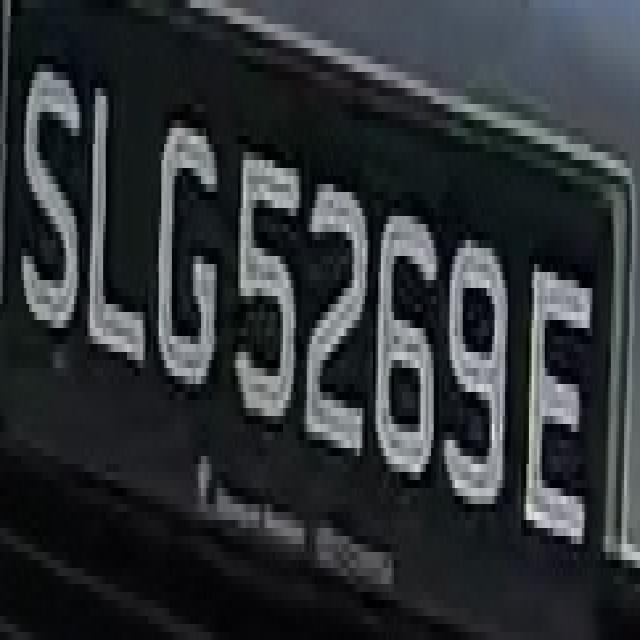2: (307, 152, 373, 472)
5: (238, 144, 304, 440)
6: (371, 160, 436, 496)
9: (444, 200, 510, 512)
E: (521, 232, 592, 544)
G: (148, 96, 222, 416)
L: (79, 72, 143, 392)
S: (19, 40, 80, 376)
